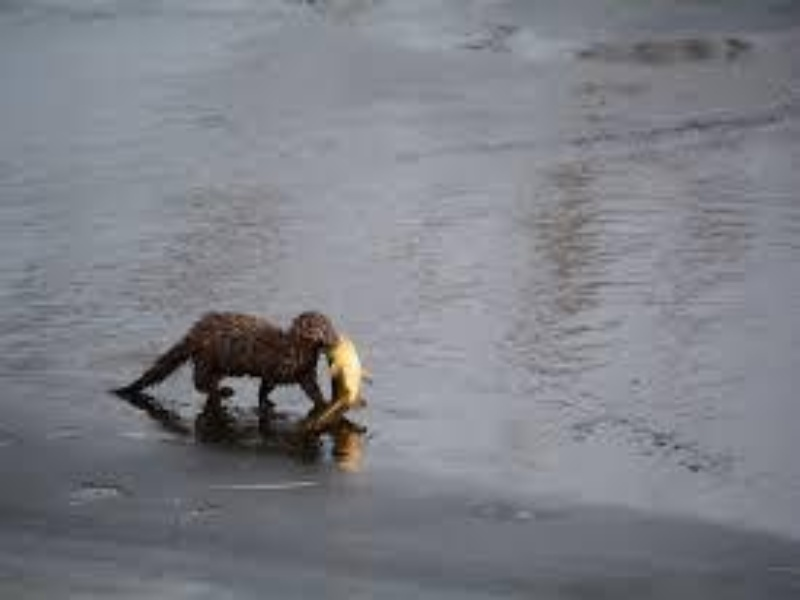minkish: (104, 307, 367, 433)
